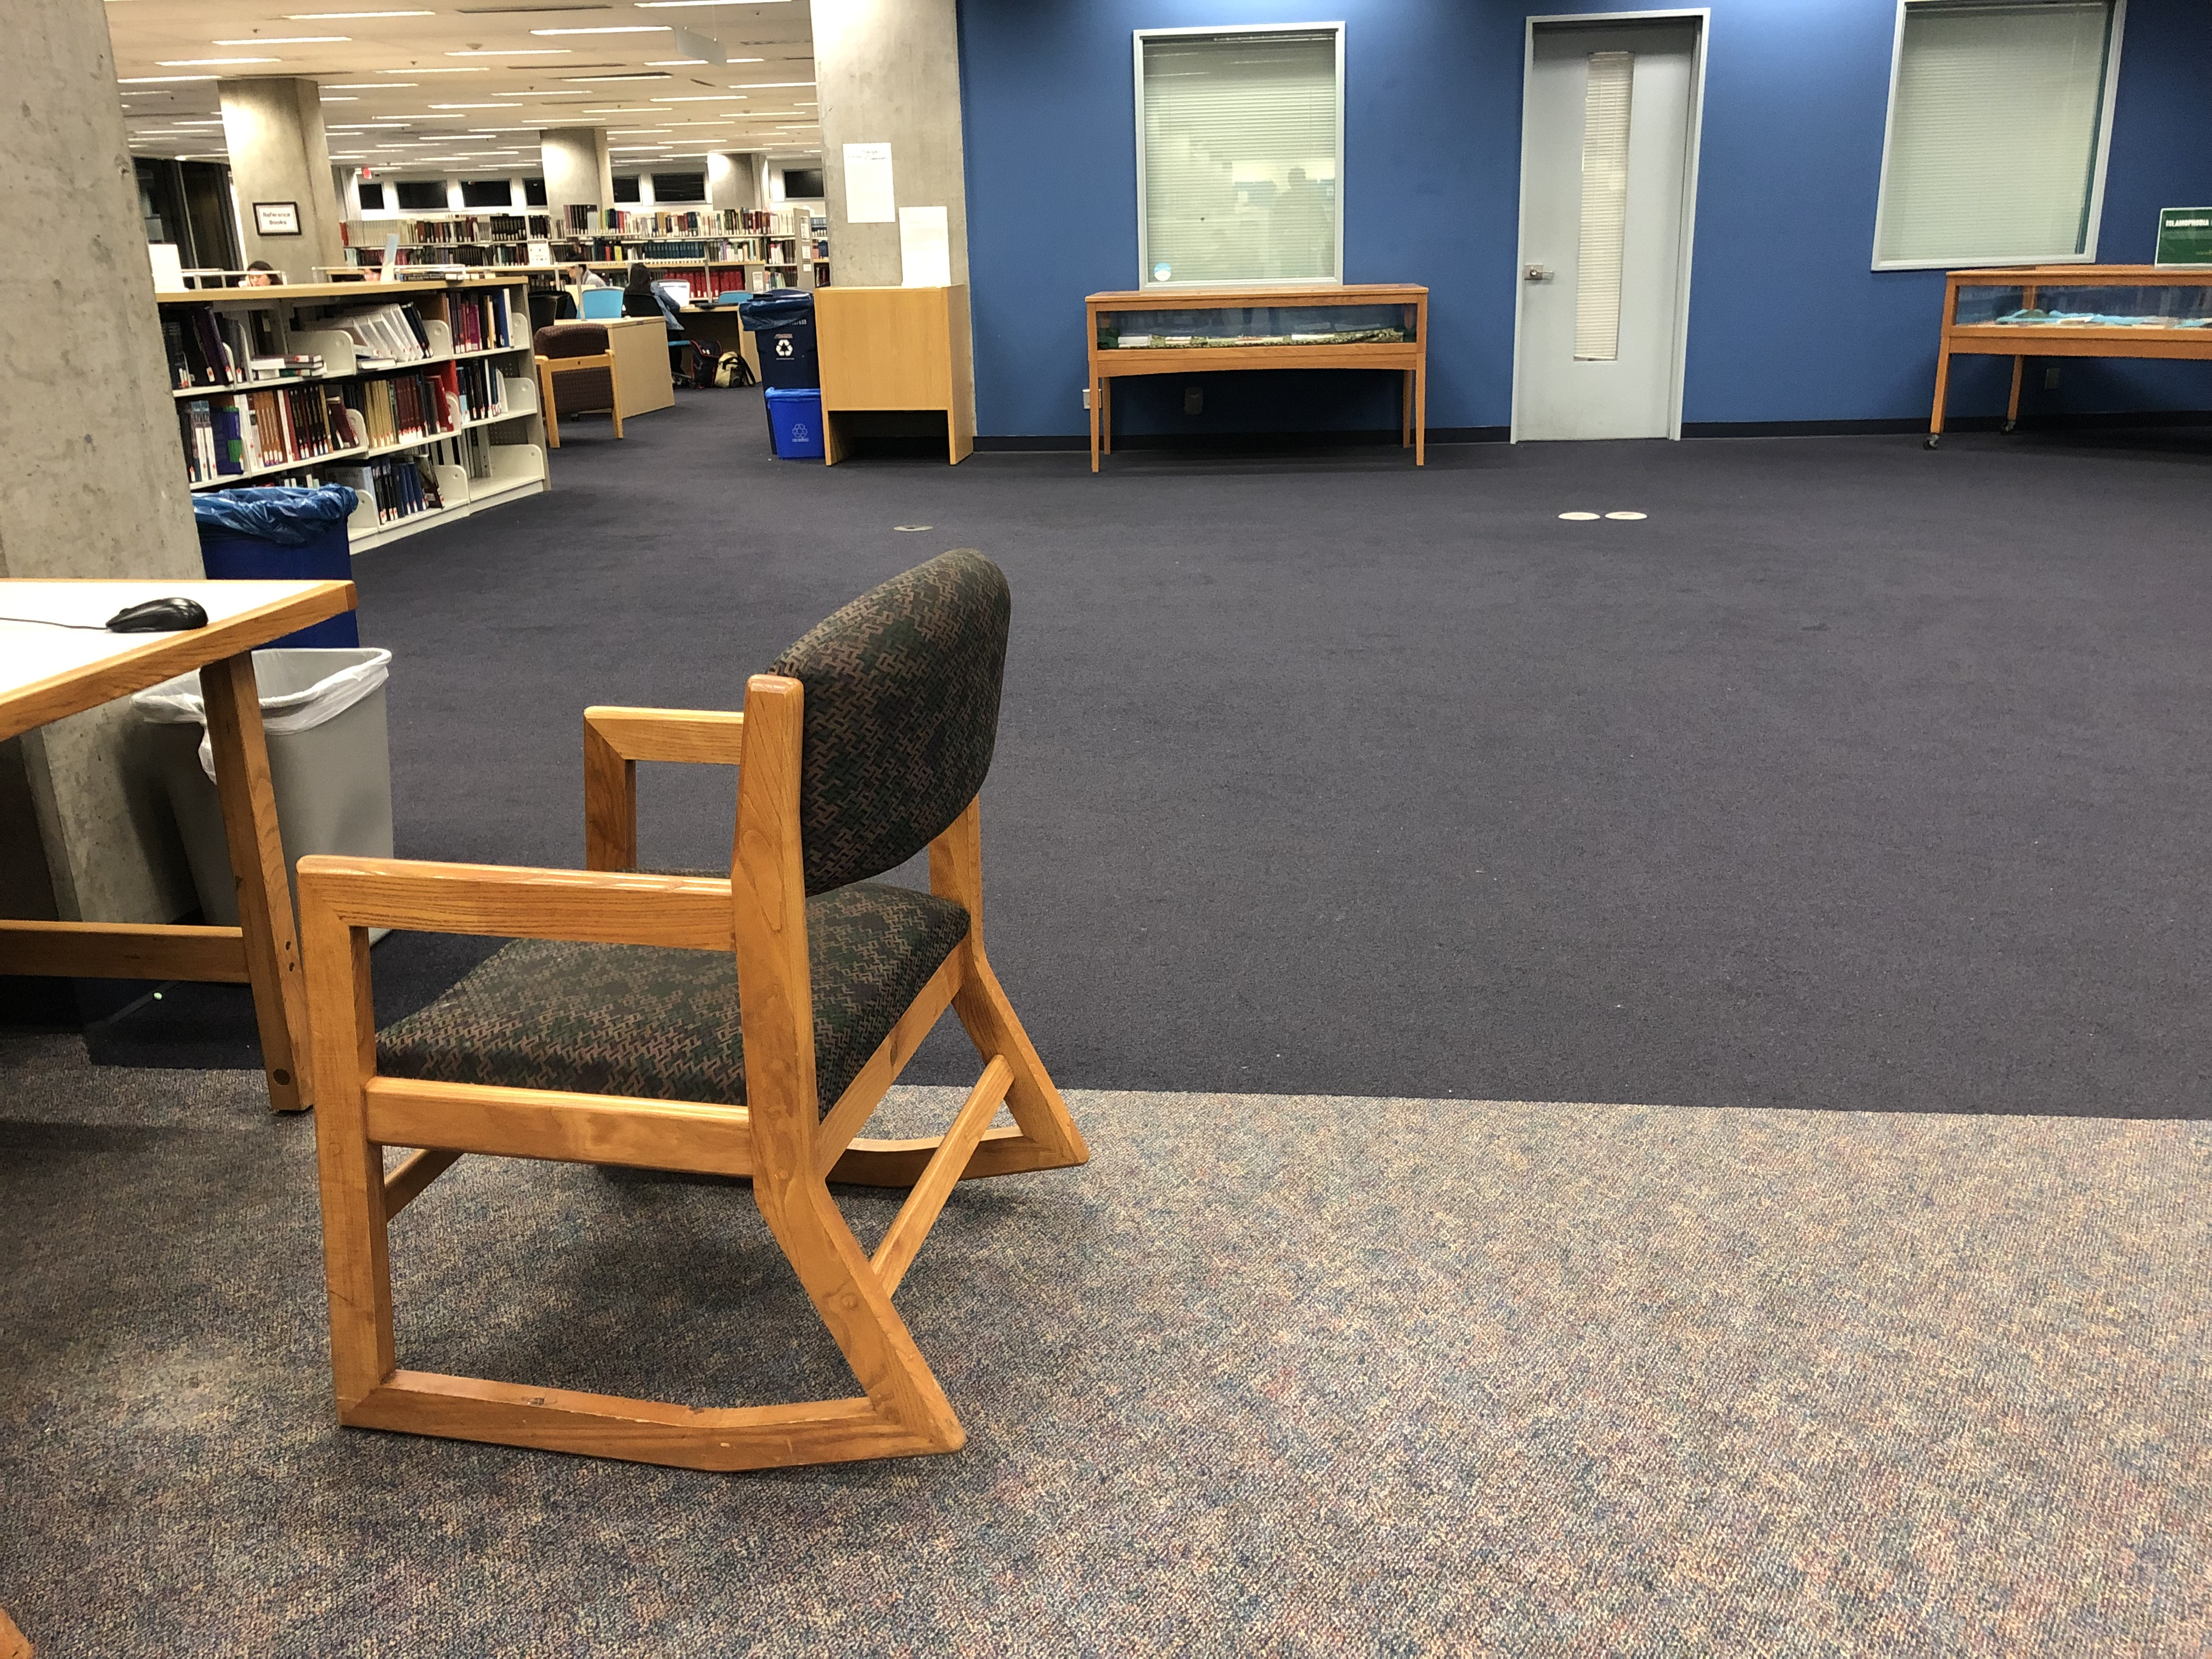Obstacle: (289, 552, 1103, 1478), (758, 7, 2207, 455), (0, 572, 395, 1107)
